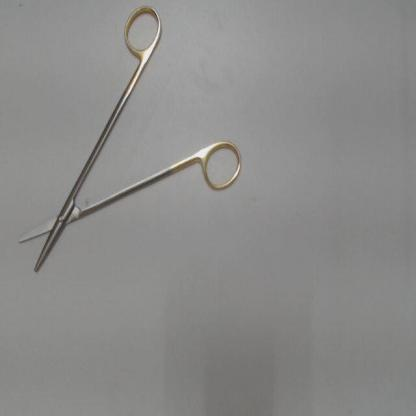7 Metzenbaum Scissors: (14, 5, 249, 278)
